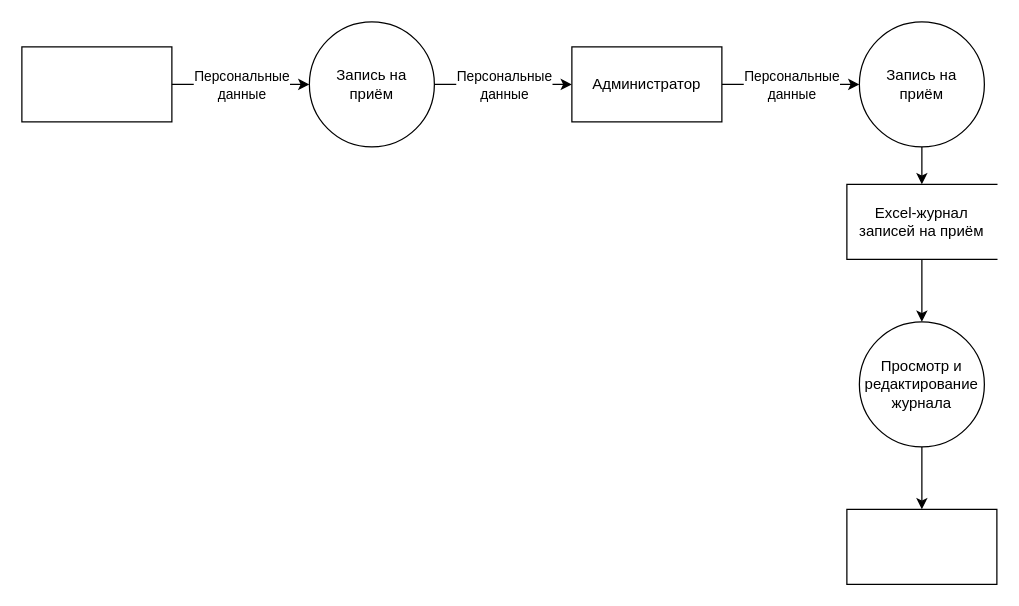
The diagram is 1019 pixels wide and 606 high, and some of its shapes have lost their labels. Here are the shapes that lost their labels. From the top down, the box of each, then its label:
(21, 46, 172, 122): Пациент
(846, 508, 997, 584): Специалист-медик
